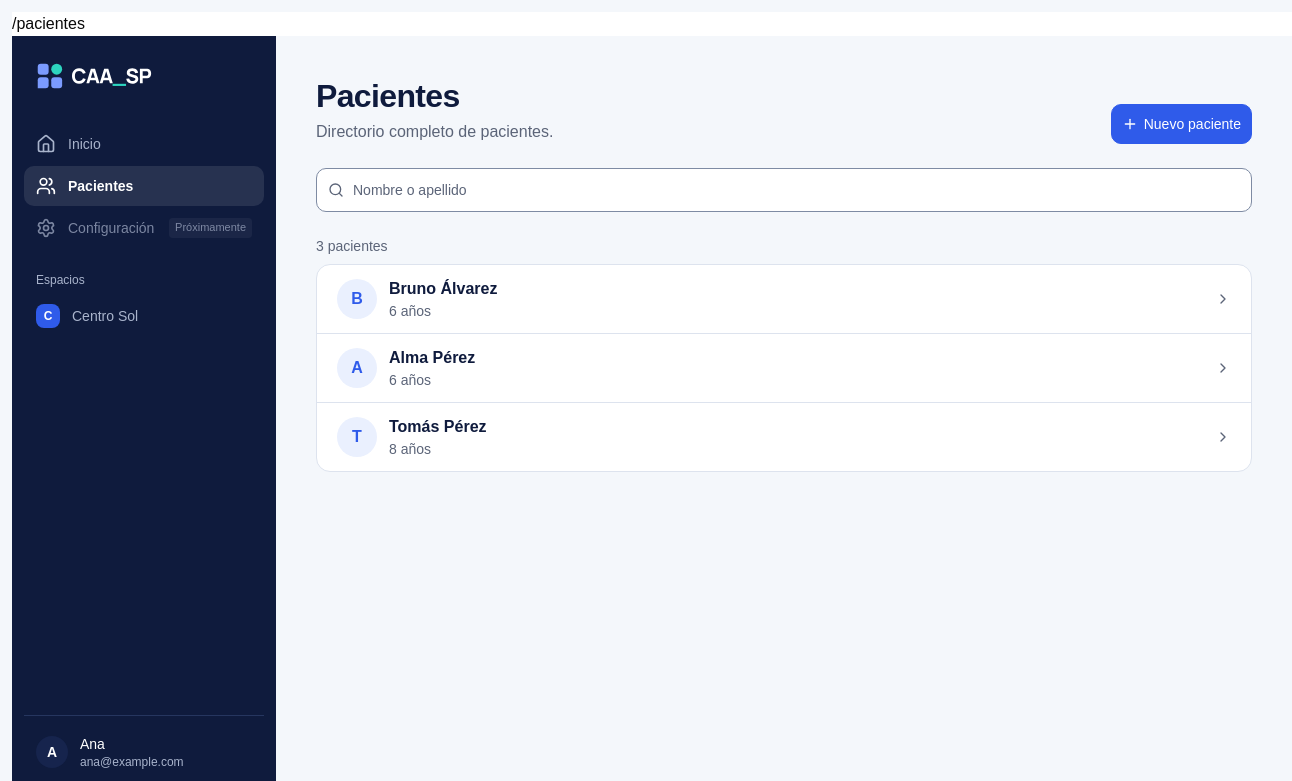
Scenario: PatientsPage › filters patients immediately as you type, case-insensitively
This screenshot has width=1292, height=781.
Expected: the text "Bruno Álvarez" is shown, 389,280 -> 498,297
Type "alma" into the search field named "Buscar paciente" at x=784, y=190, box 316,168 -> 1252,212
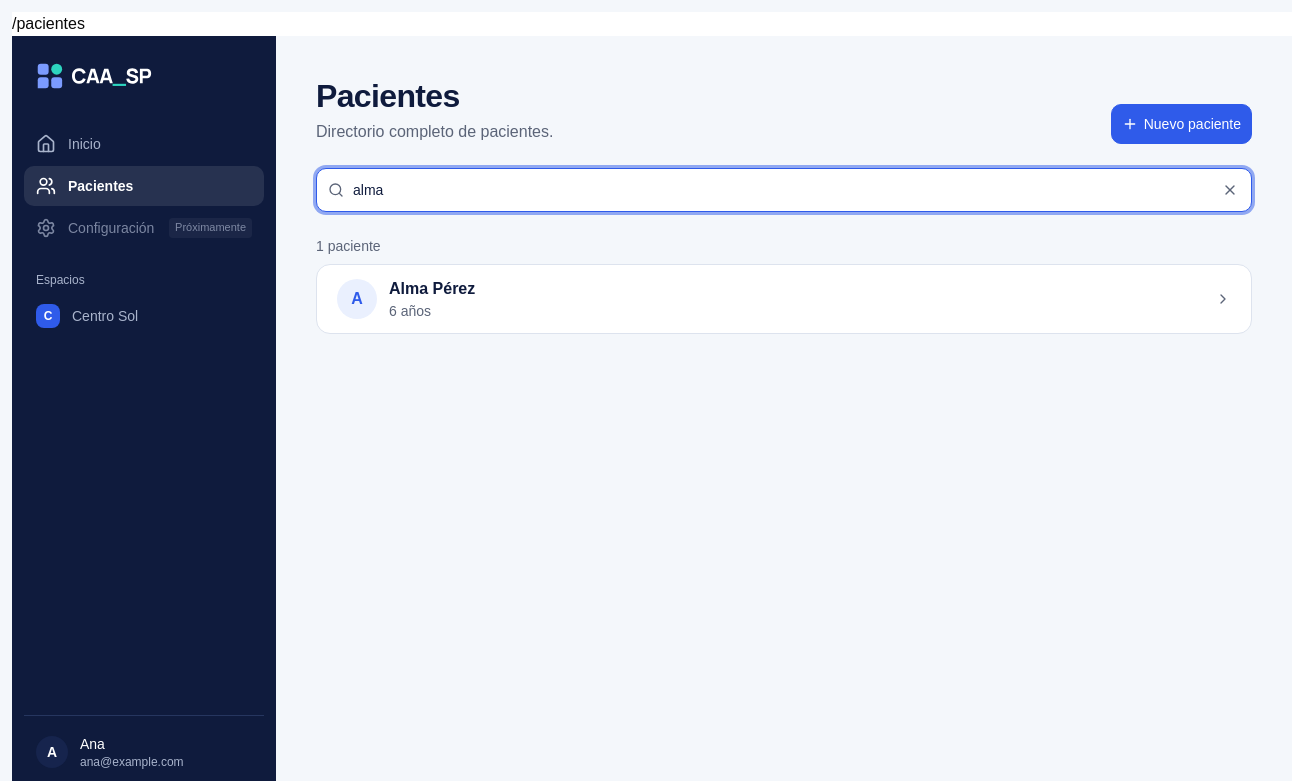
Expected: the text "Alma Pérez" is shown, 389,280 -> 475,297
Now the link "Bruno Álvarez" is gone
